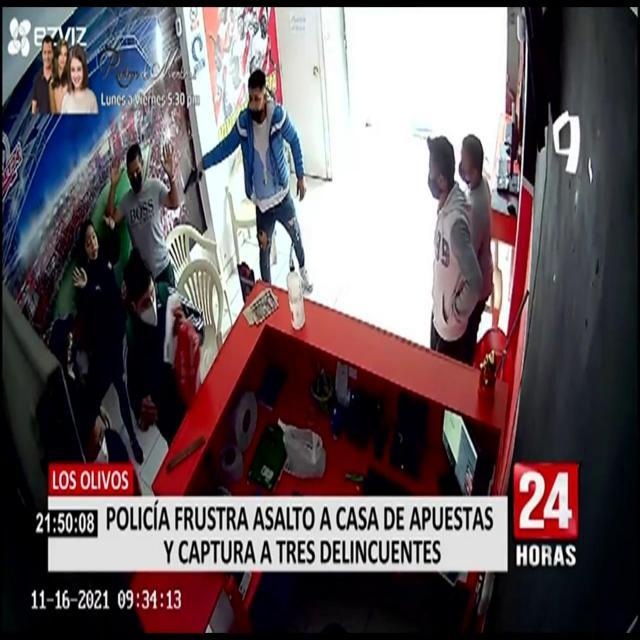weapon: (178, 151, 204, 203)
